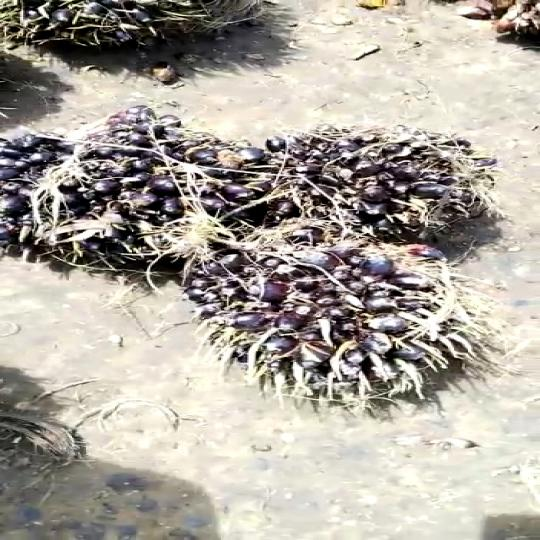mentah: (191, 247, 481, 416), (197, 96, 526, 236), (0, 110, 204, 264)
